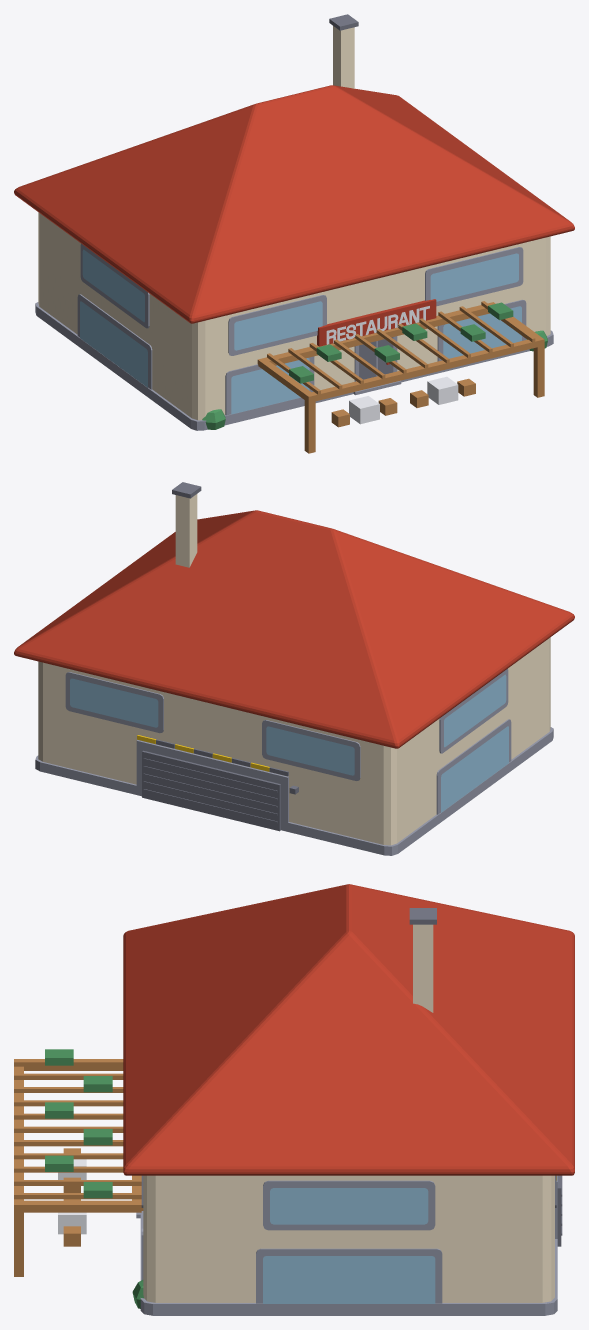
The model's file is restaurant-2x2-t3-tone-a.glb.
The picture shows the model from 3 angles, top to bottom: view 1: azimuth 30°, elevation 25°; view 2: azimuth 150°, elevation 25°; view 3: azimuth 270°, elevation 25°; orthographic projection. The views are drawn at different scales.
Visible parts, largest first — view 1: restaurant-2x2-t3-tone-a; view 2: restaurant-2x2-t3-tone-a; view 3: restaurant-2x2-t3-tone-a.
Part boxes in pixels (box(x1,y1,x2,y2)): restaurant-2x2-t3-tone-a: box(14, 14, 574, 453); restaurant-2x2-t3-tone-a: box(14, 482, 574, 855); restaurant-2x2-t3-tone-a: box(14, 884, 574, 1315).
Size of the model in its own units: 1.96 by 1.3 by 1.95.
1 material, 1 textured.
